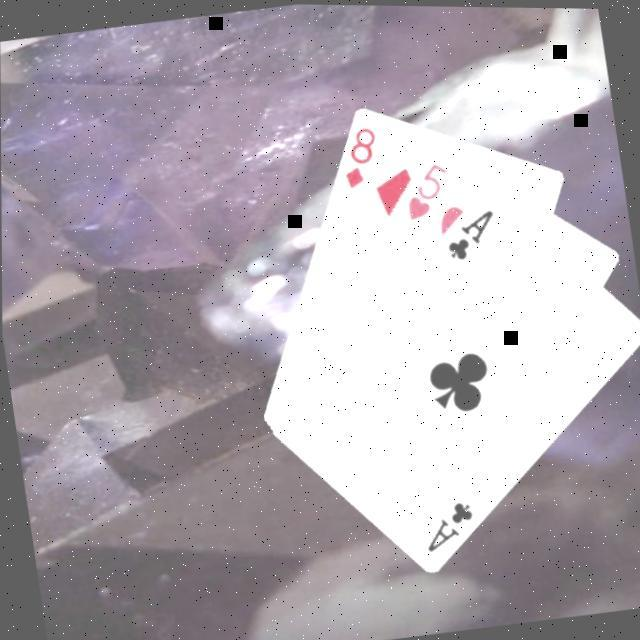5H: (395, 158, 455, 226)
8D: (332, 122, 384, 194)
AC: (437, 205, 502, 268), (413, 496, 478, 558)
